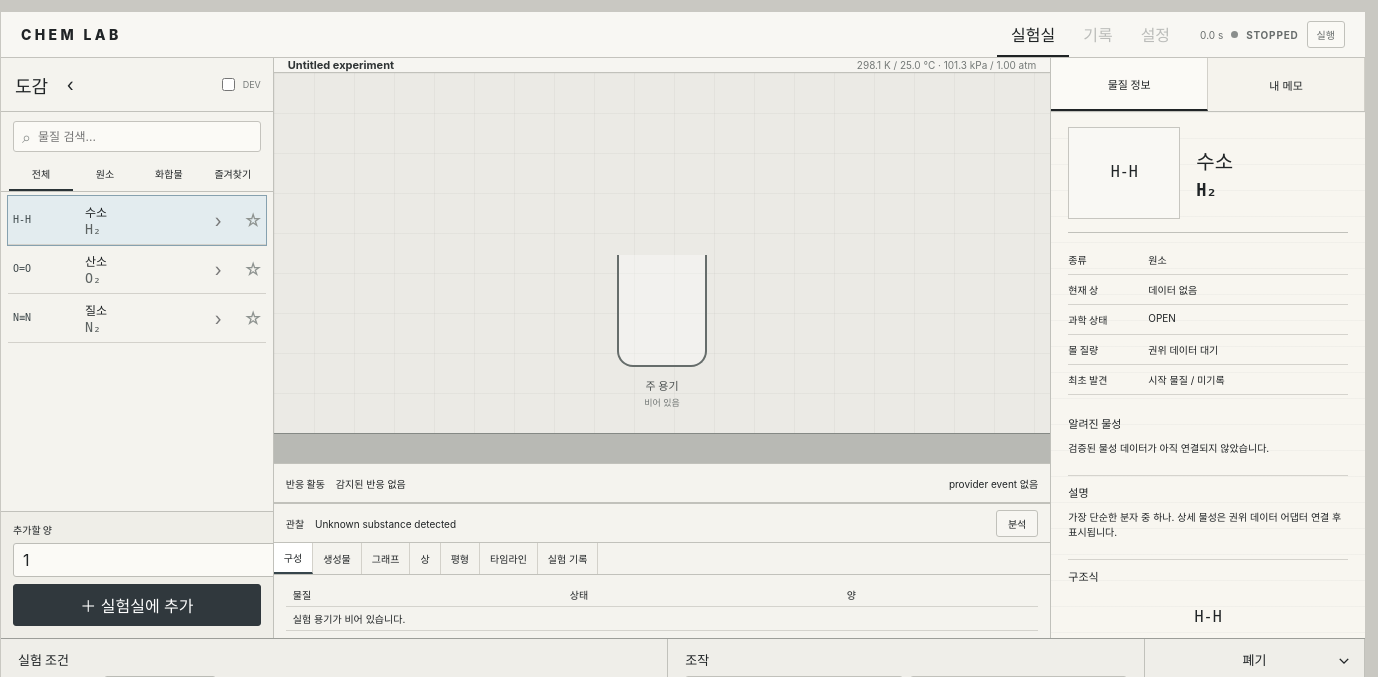
Scenario: LaboratoryWorkspace workbench refinement › developer mode exposes supported catalog species without affecting normal mode
Expected: the text "메테인" is not shown
Click the checkbox named "Developer Mode" at (228, 84), box [222,78,235,91]
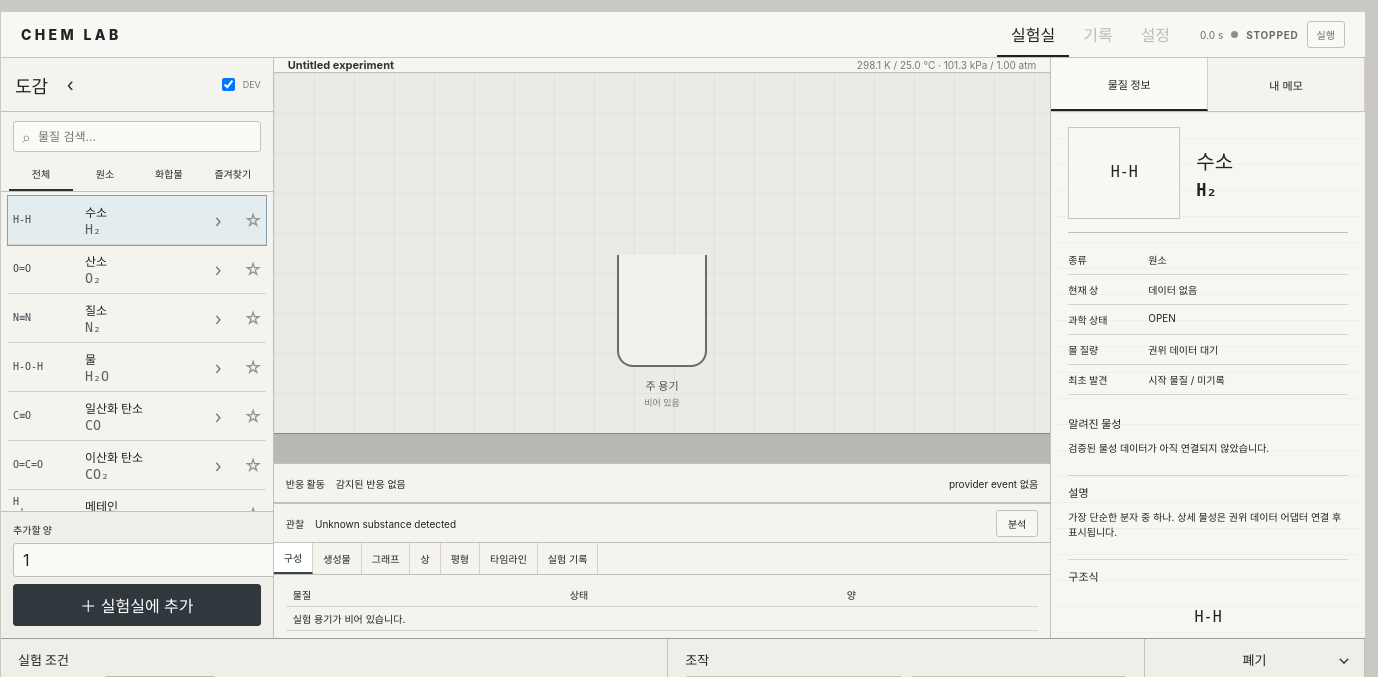
Result: the text "메테인" is shown at [85,499,118,511]
